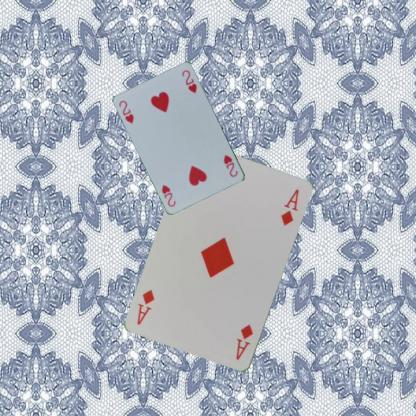2h: (221, 152, 239, 178), (117, 98, 135, 124)
Ad: (233, 322, 255, 362)
